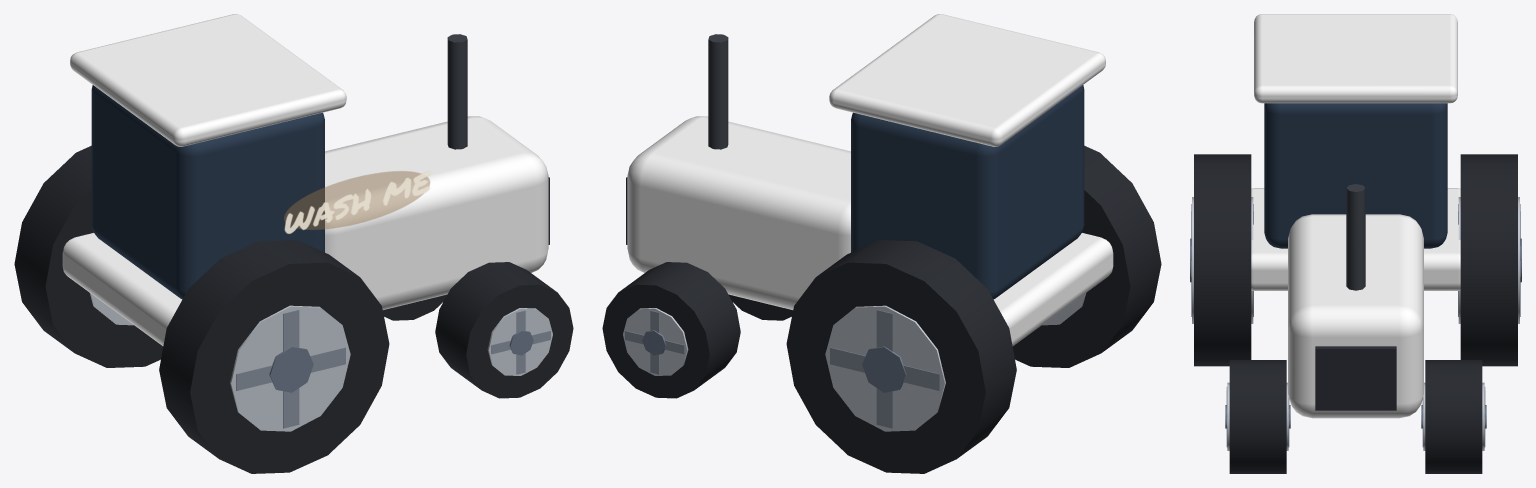
The model's file is car_tractor.glb.
3 views of the same model, side by side, from view 1: azimuth 30°, elevation 25°; view 2: azimuth 150°, elevation 25°; view 3: azimuth 270°, elevation 25° (orthographic). The views are drawn at different scales.
Parts seen in each view (by area): view 1: Paint, Wheel2, Trim, Wheel0, Wheel3, WashMe, Wheel1; view 2: Paint, Wheel3, Trim, Wheel1, Wheel2, Wheel0; view 3: Paint, Trim, Wheel2, Wheel3, Wheel0, Wheel1.
Part boxes in pixels (x1,y1,x2,y2): Paint: [62, 14, 548, 345]; Wheel2: [159, 240, 389, 473]; Trim: [91, 34, 549, 299]; Wheel0: [435, 262, 573, 398]; Wheel3: [14, 145, 163, 367]; WashMe: [284, 171, 430, 233]; Wheel1: [383, 294, 447, 320]; Paint: [627, 14, 1113, 345]; Wheel3: [786, 240, 1016, 473]; Trim: [626, 34, 1084, 299]; Wheel1: [602, 262, 740, 398]; Wheel2: [1012, 145, 1161, 367]; Wheel0: [728, 294, 792, 320]; Paint: [1251, 14, 1460, 418]; Trim: [1264, 103, 1447, 410]; Wheel2: [1190, 154, 1253, 366]; Wheel3: [1458, 154, 1521, 366]; Wheel0: [1225, 360, 1290, 473]; Wheel1: [1421, 360, 1486, 473].
Size of the model in its own units: 3.33 by 2.51 by 2.44.
Materials: 7 (1 with a texture image).
